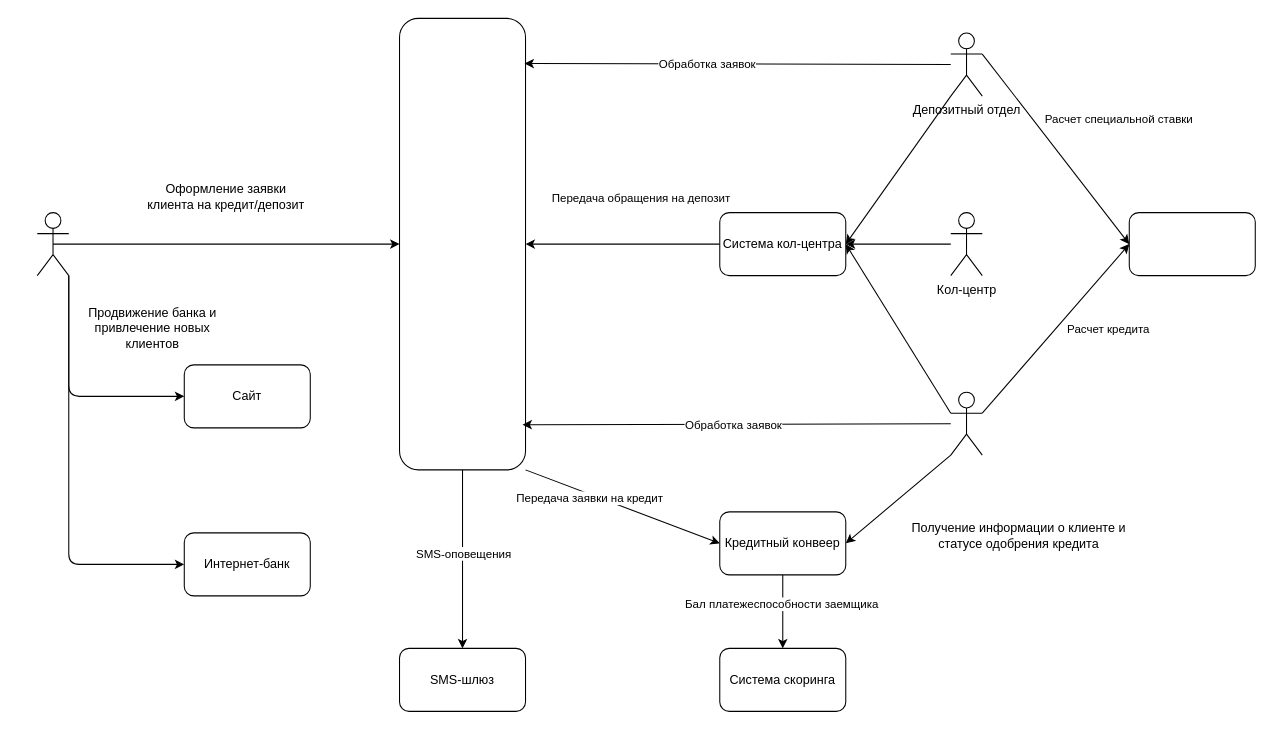
Some shapes in this 1274 by 730 pixel diagram are drawn without their labels. The centre of each missing label's shape, as x and y in pixels:
"Excel" belongs at (1191,244).
"АБС" belongs at (462,243).
"Кредитный отдел" belongs at (966,423).
"Менеджеры" belongs at (52,244).
